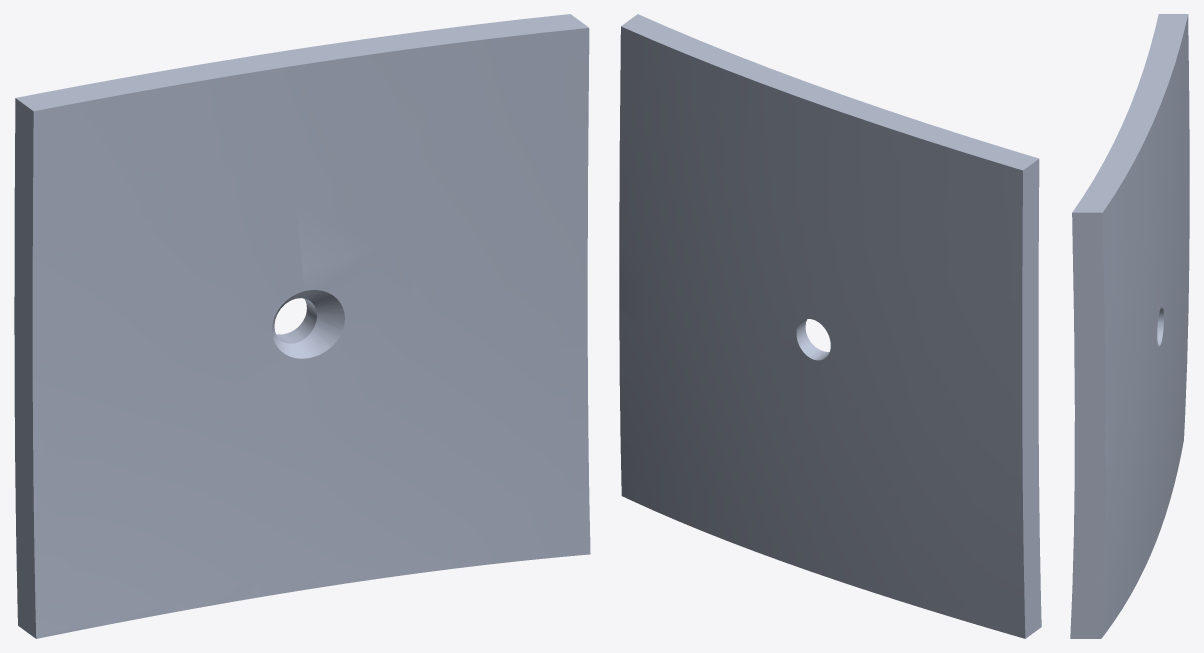
Rendered from MirrorUA_26EV_BottomSeatMounting__UA_26EV_BottomSeatMounting_BackingPlate_1.dae.
The picture shows the model from 3 angles, left to right: view 1: azimuth 30°, elevation 25°; view 2: azimuth 150°, elevation 25°; view 3: azimuth 270°, elevation 25°; orthographic projection. The views are drawn at different scales.
Visible parts, largest first — view 1: node0; view 2: node0; view 3: node0.
Boxes of the visible parts, left/top/right/bottom form: node0: left=14, top=14, right=590, bottom=638; node0: left=619, top=14, right=1041, bottom=638; node0: left=1070, top=14, right=1189, bottom=638.
Size of the model in its own units: 0.0508 by 0.0508 by 0.0129.
